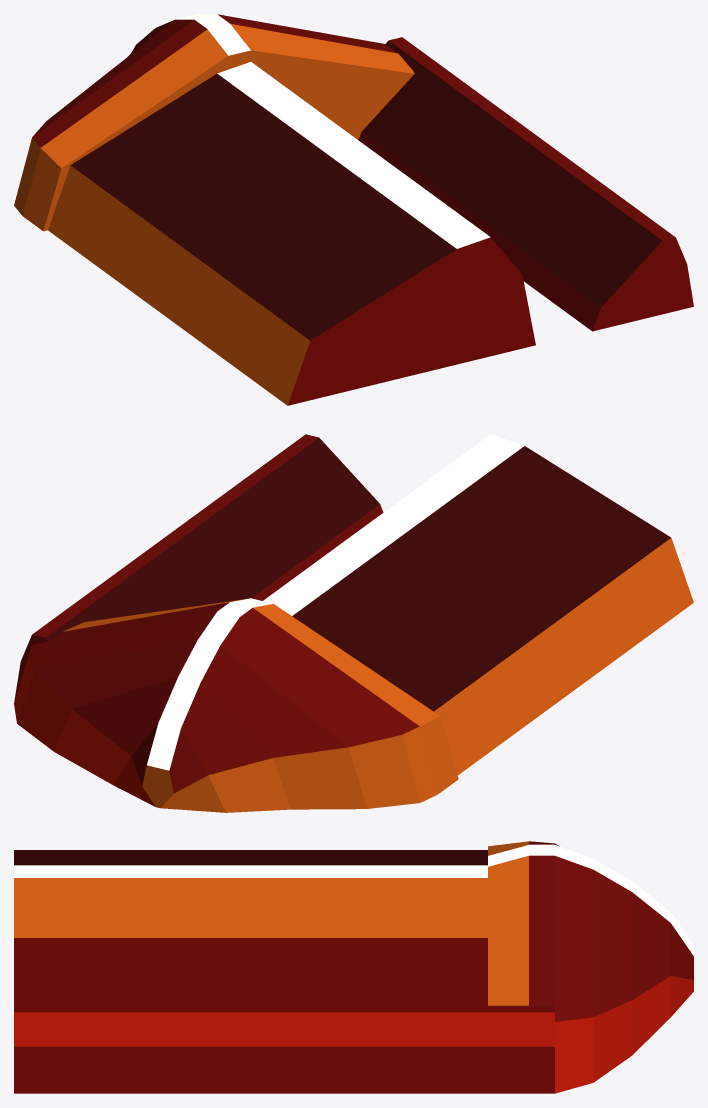
Rendered from newshe-199.glb.
3 views of the same model, one above another, from view 1: azimuth 30°, elevation 25°; view 2: azimuth 150°, elevation 25°; view 3: azimuth 270°, elevation 25° (orthographic).
Parts seen in each view (by area): view 1: newshe-199; view 2: newshe-199; view 3: newshe-199.
Part boxes in pixels (x1=…): newshe-199: x1=14, y1=14, x2=693, y2=405; newshe-199: x1=14, y1=434, x2=693, y2=812; newshe-199: x1=14, y1=841, x2=693, y2=1093.
Size of the model in its own units: 1.52 by 0.5 by 2.2.
